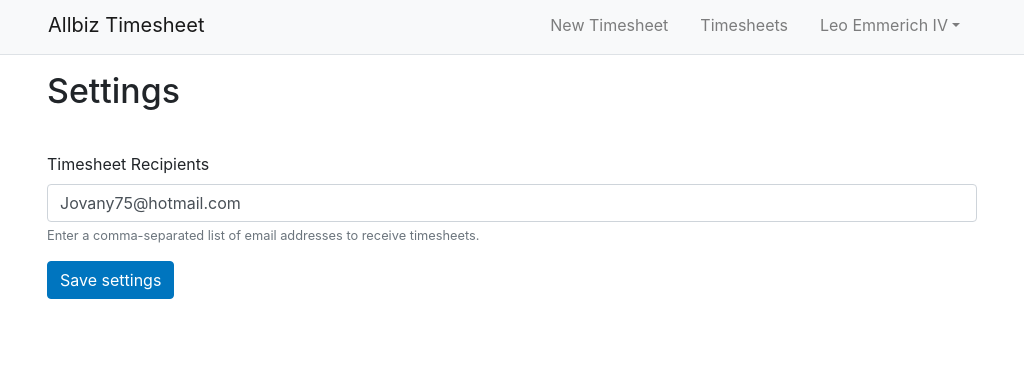
Test: handles SettingsForm submission
Click the button "Save settings" at [111, 280], box [47, 261, 174, 299]
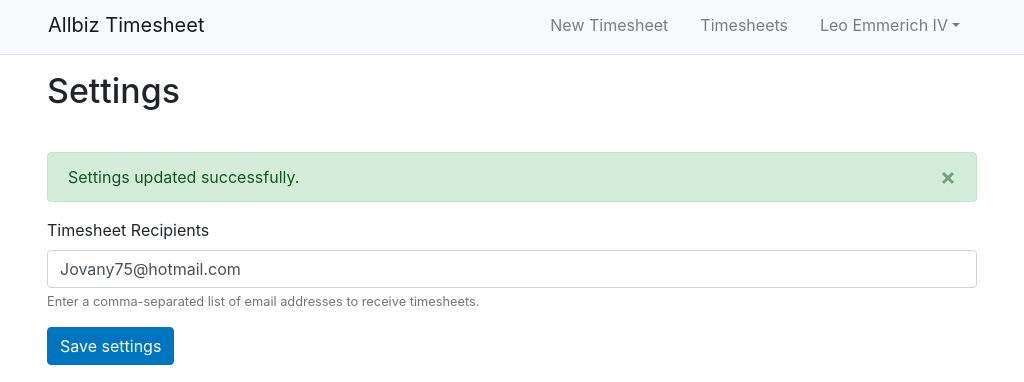
Expected: the text "× Settings updated successfully." is shown, [47, 152, 977, 202]
